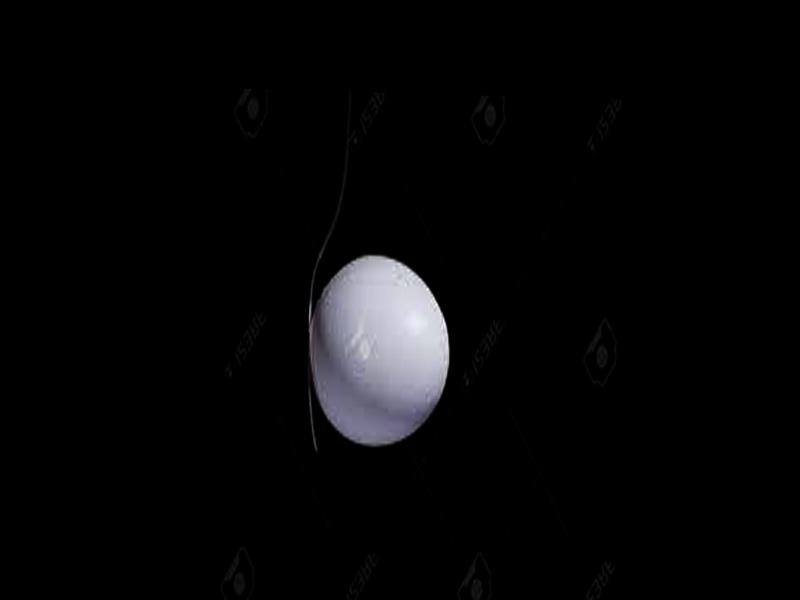Eggs: (306, 252, 450, 449)
